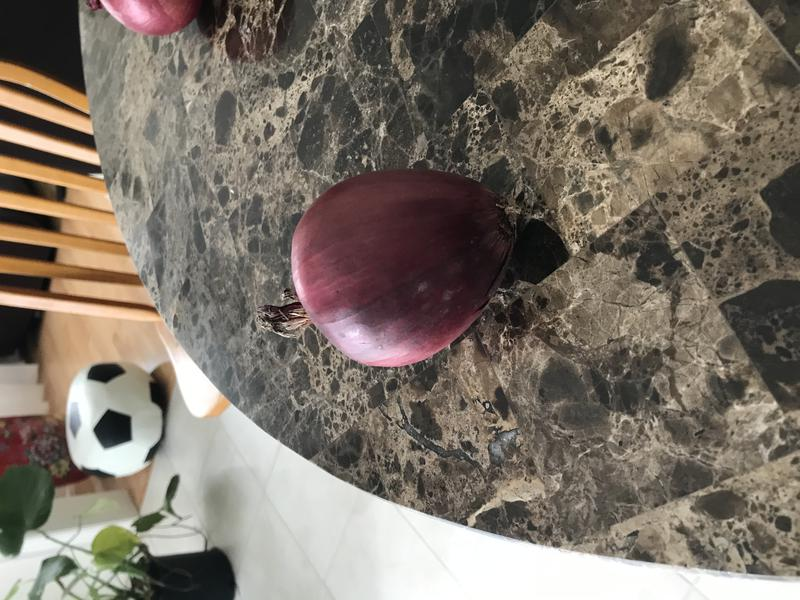purple_onion: (255, 163, 506, 374)
